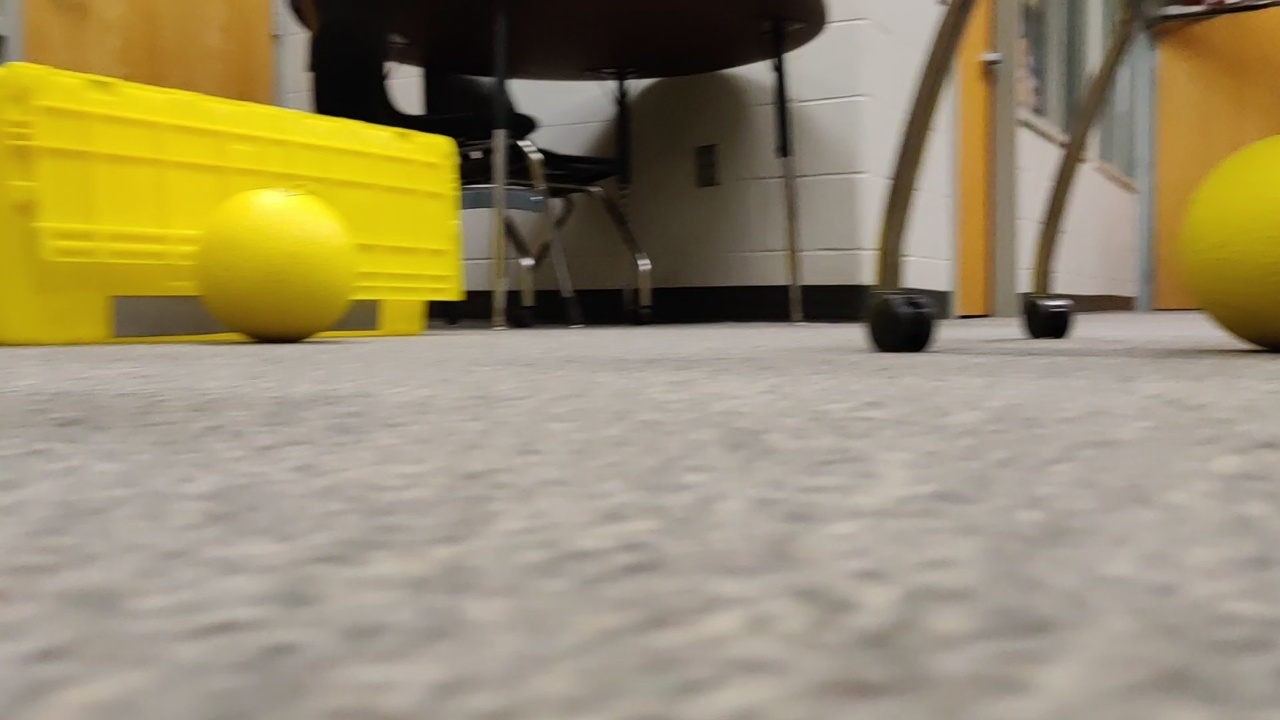Ball: (184, 172, 366, 336)
